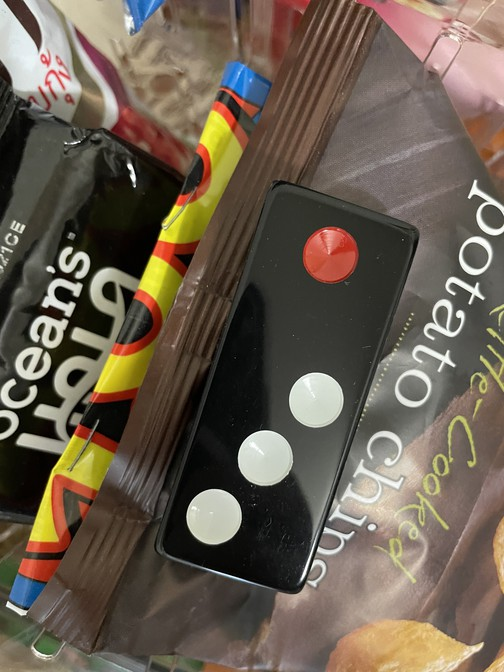goose: (152, 179, 421, 595)
